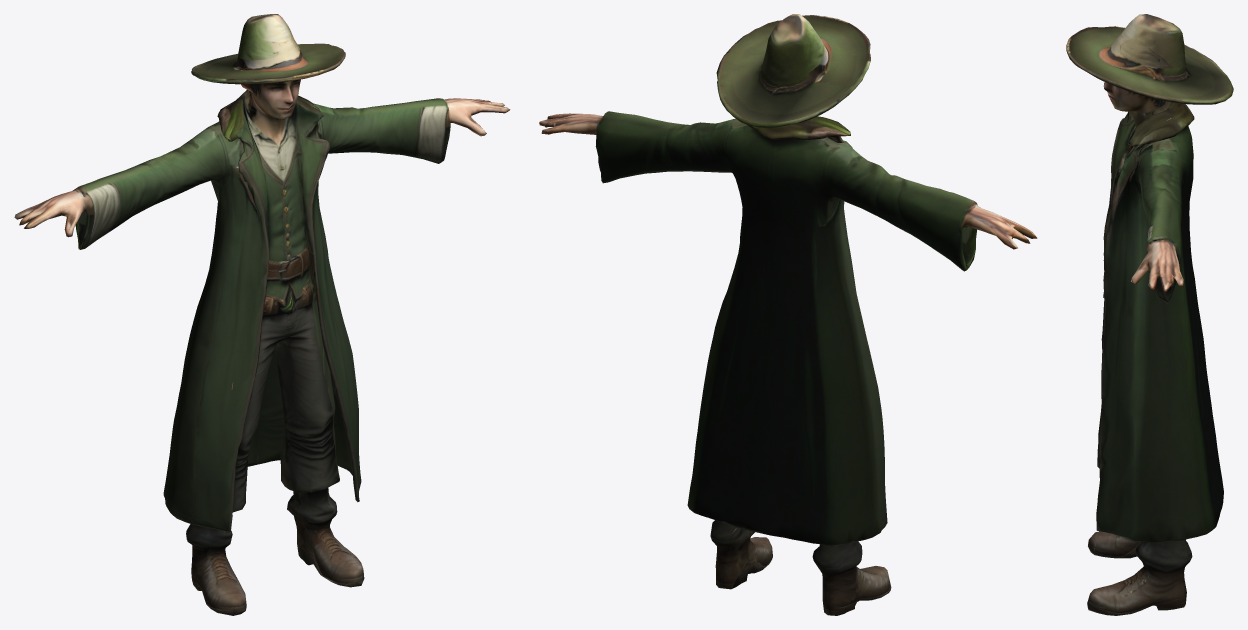
File: Chara01.fbx
3 renders of one model, left to right at view 1: azimuth 30°, elevation 25°; view 2: azimuth 150°, elevation 25°; view 3: azimuth 270°, elevation 25°, orthographic.
Visible parts, largest first — view 1: Mesh_0; view 2: Mesh_0; view 3: Mesh_0.
Boxes of the visible parts, bbox=[...] form: Mesh_0: bbox=[14, 14, 510, 615]; Mesh_0: bbox=[539, 14, 1037, 615]; Mesh_0: bbox=[1066, 14, 1233, 615].
Bounding box in the file's own units: 181 × 201 × 53.91.
1 material, 1 textured.
